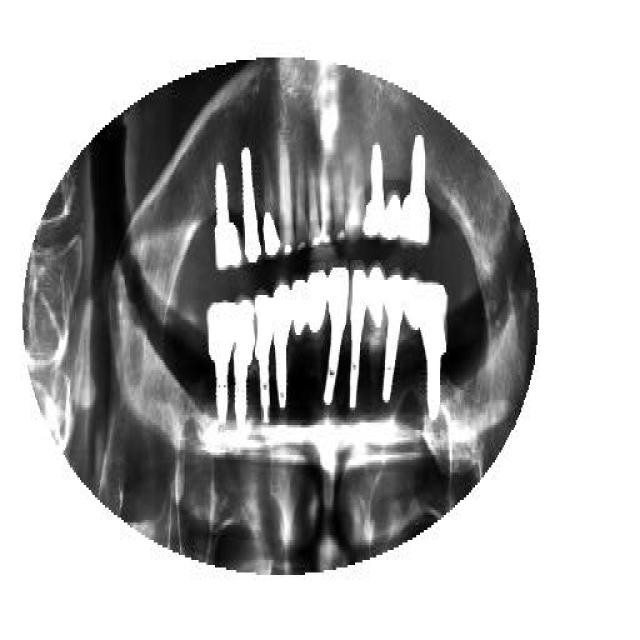Fillings: (260, 145, 282, 260), (305, 265, 327, 343), (382, 172, 402, 242), (290, 275, 310, 343)
Implant: (419, 273, 451, 445), (400, 135, 435, 247), (348, 255, 372, 413), (379, 265, 406, 400), (206, 300, 232, 425), (215, 160, 243, 275), (230, 303, 256, 425), (327, 260, 348, 402), (239, 140, 261, 265), (255, 292, 275, 428), (272, 280, 292, 415), (362, 135, 388, 237)
